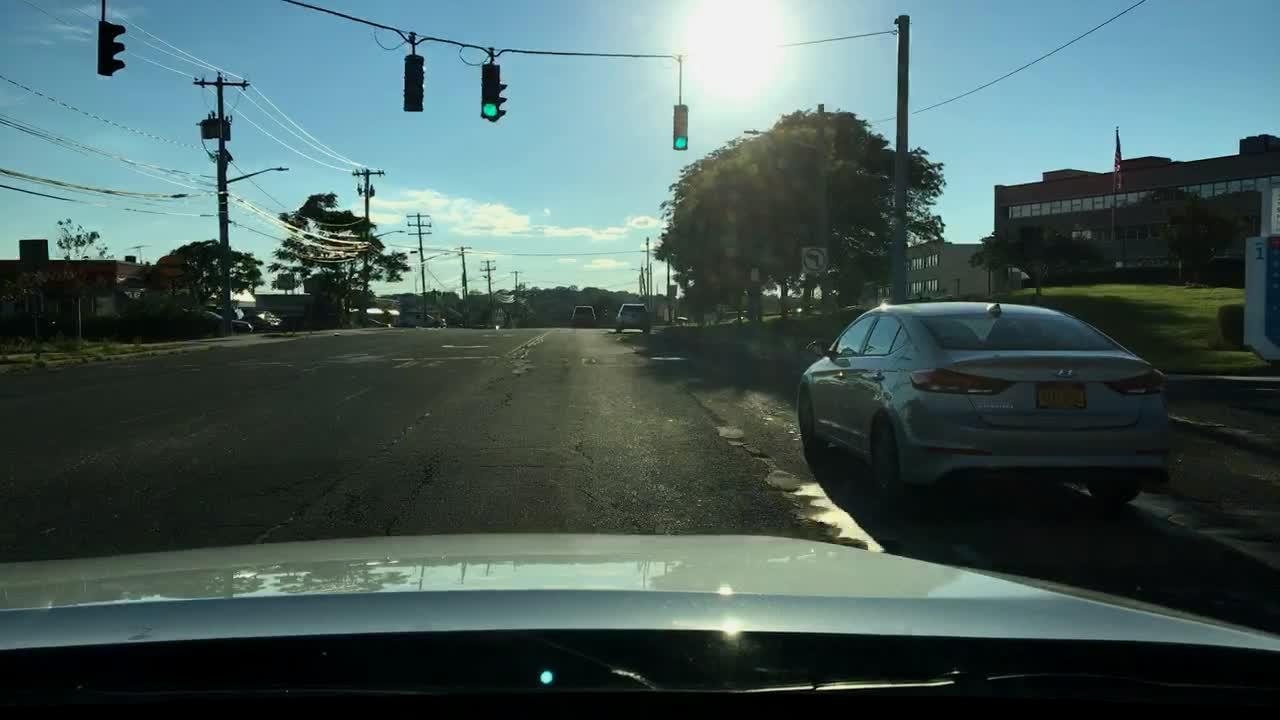Hyundai: (1047, 359, 1082, 384)
